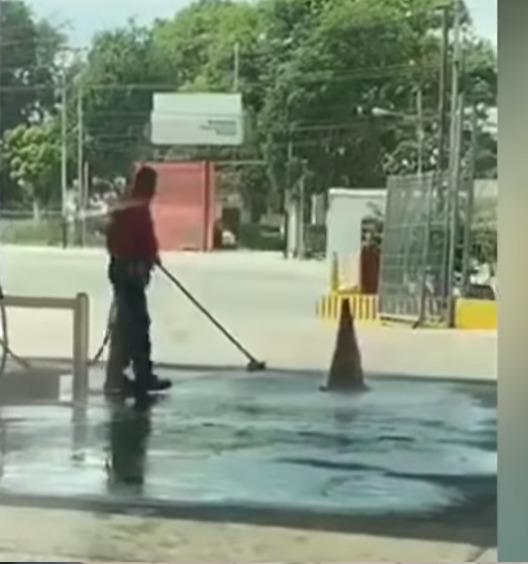person: (102, 166, 176, 393)
